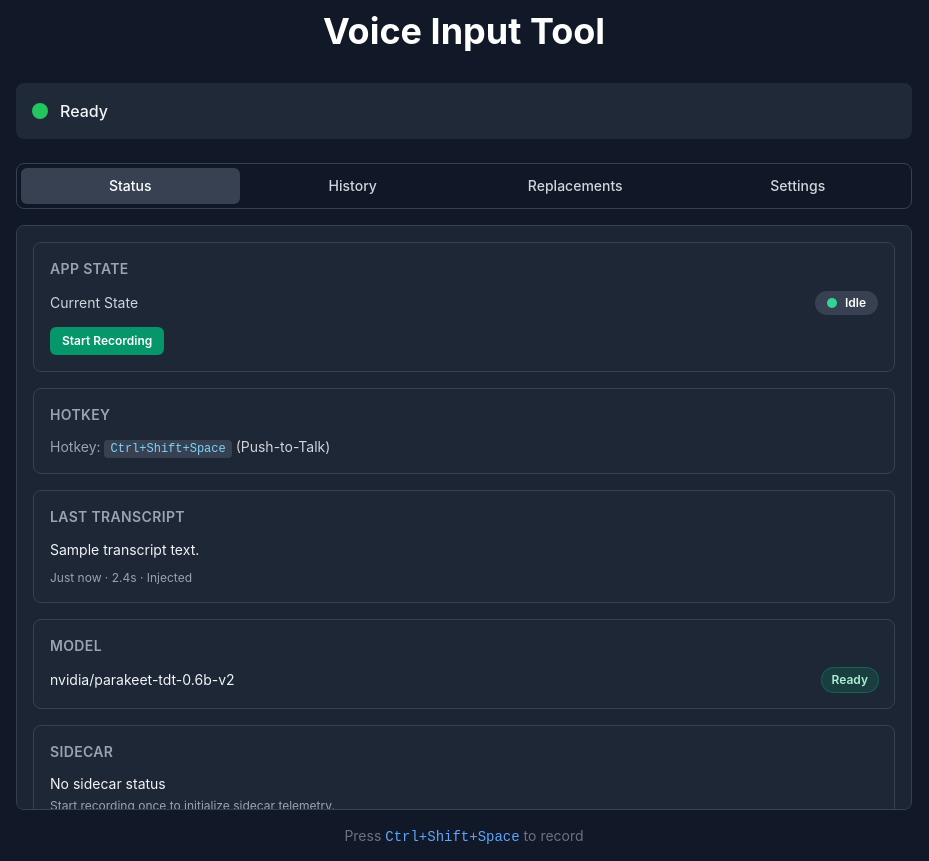
Test: App diagnostics panels › defaults to status tab and switches panel content on tab click
Click the tab "Replacements".
click(575, 186)  # box [466,168,684,204]
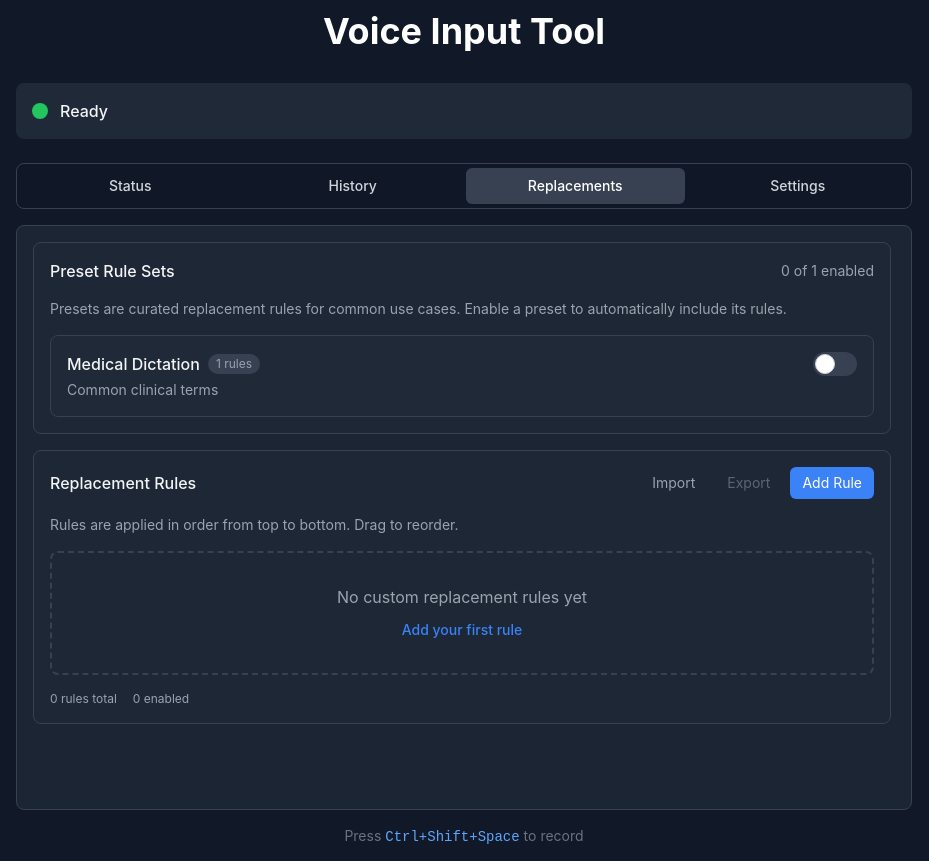
Now the heading "Replacement Rules" is shown, box [50,471,196,495]
Now the heading "Preset Rule Sets" is shown, box [50,259,175,283]
Now the heading "Medical Dictation" is shown, box [67,352,200,376]
Click the checkbox.
click(835, 364)  # box [813,352,857,376]
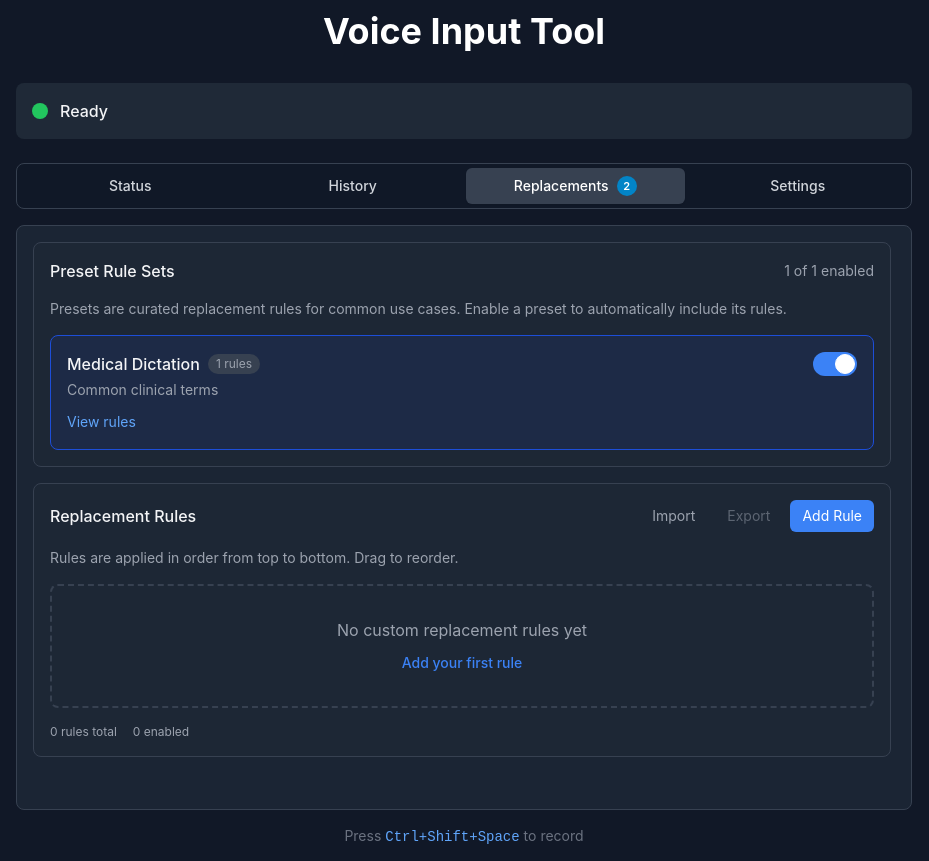
Now the tab "Replacements 2" is shown, box [466,168,684,204]
Click the tab "History".
click(353, 186)  # box [244,168,462,204]
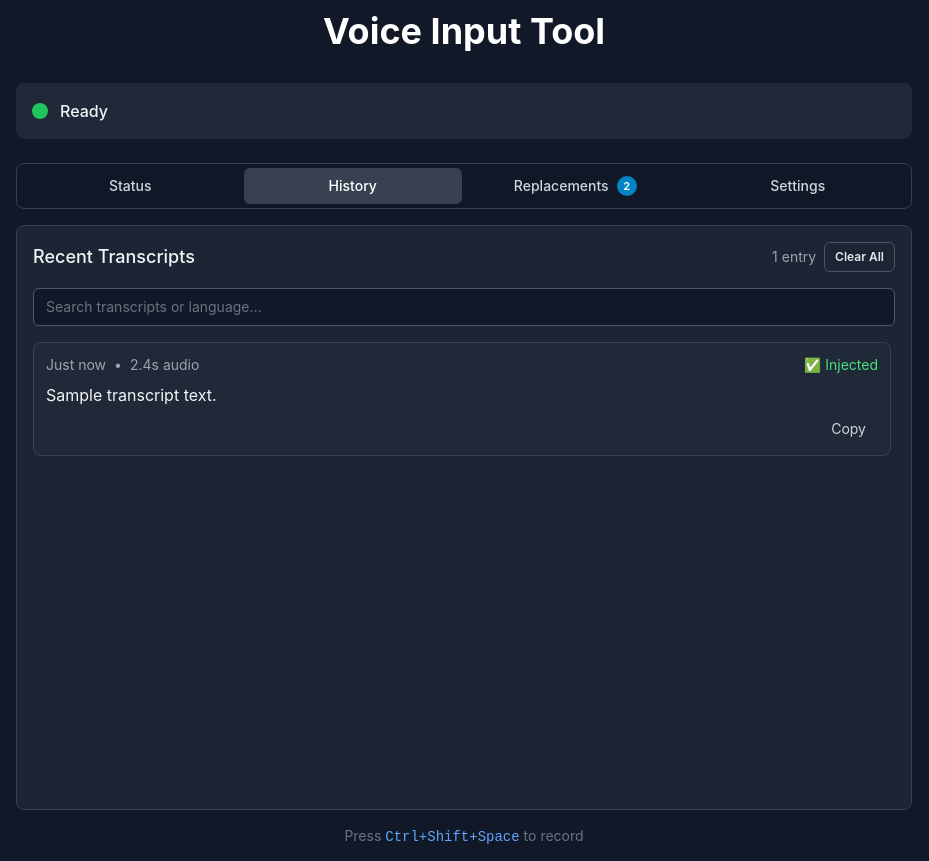
Now the text "Sample transcript text." is shown, box [46,385,217,405]
